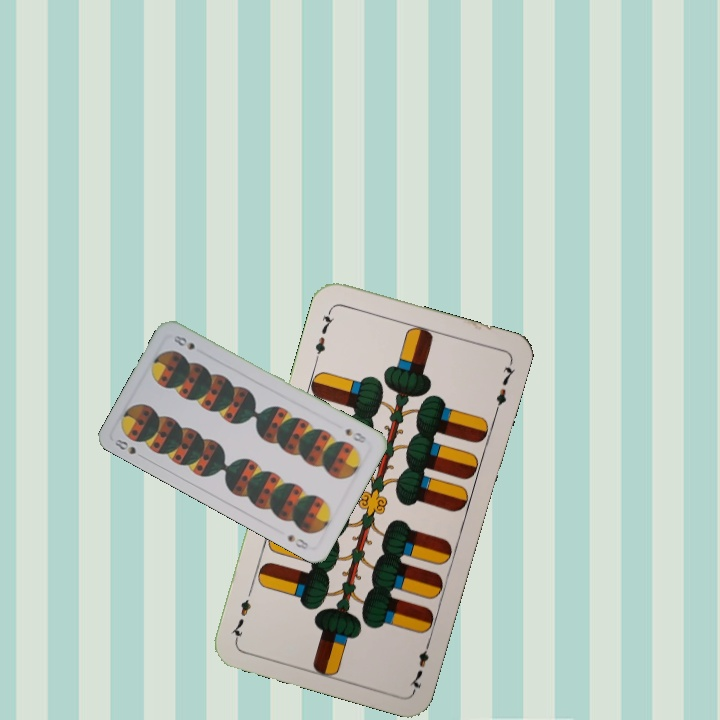E7: (405, 635, 434, 693), (311, 305, 337, 363)
S8: (111, 435, 148, 462), (341, 424, 369, 446)
